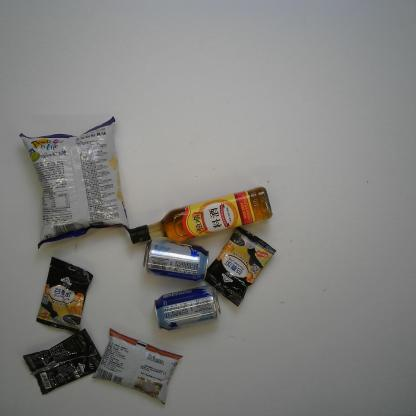Alcohol: (153, 283, 227, 332), (142, 235, 210, 283)
Instant Drink: (202, 224, 280, 307), (22, 328, 104, 398), (34, 253, 95, 335)
Puffed Food: (18, 115, 134, 254)
Seasoner: (128, 186, 274, 249), (92, 327, 184, 407)
